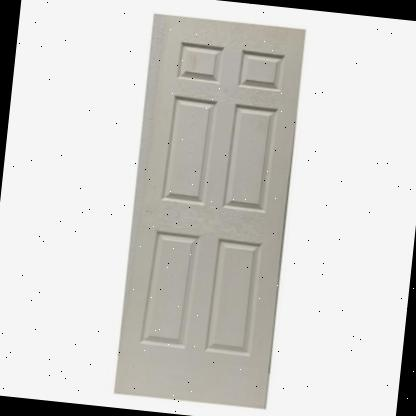door: (106, 6, 310, 416)
